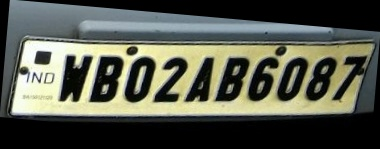character: (58, 53, 94, 102), (151, 56, 188, 103), (88, 54, 124, 102), (330, 53, 365, 101), (214, 56, 251, 101), (123, 56, 157, 102), (183, 56, 216, 101), (247, 56, 280, 101), (303, 56, 335, 102), (275, 57, 308, 101)
